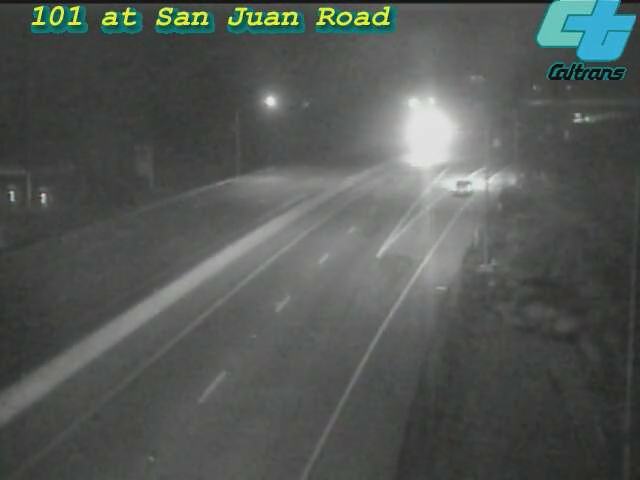vehicle: (421, 149, 501, 229), (403, 106, 453, 156), (555, 93, 605, 143), (399, 133, 449, 183)
